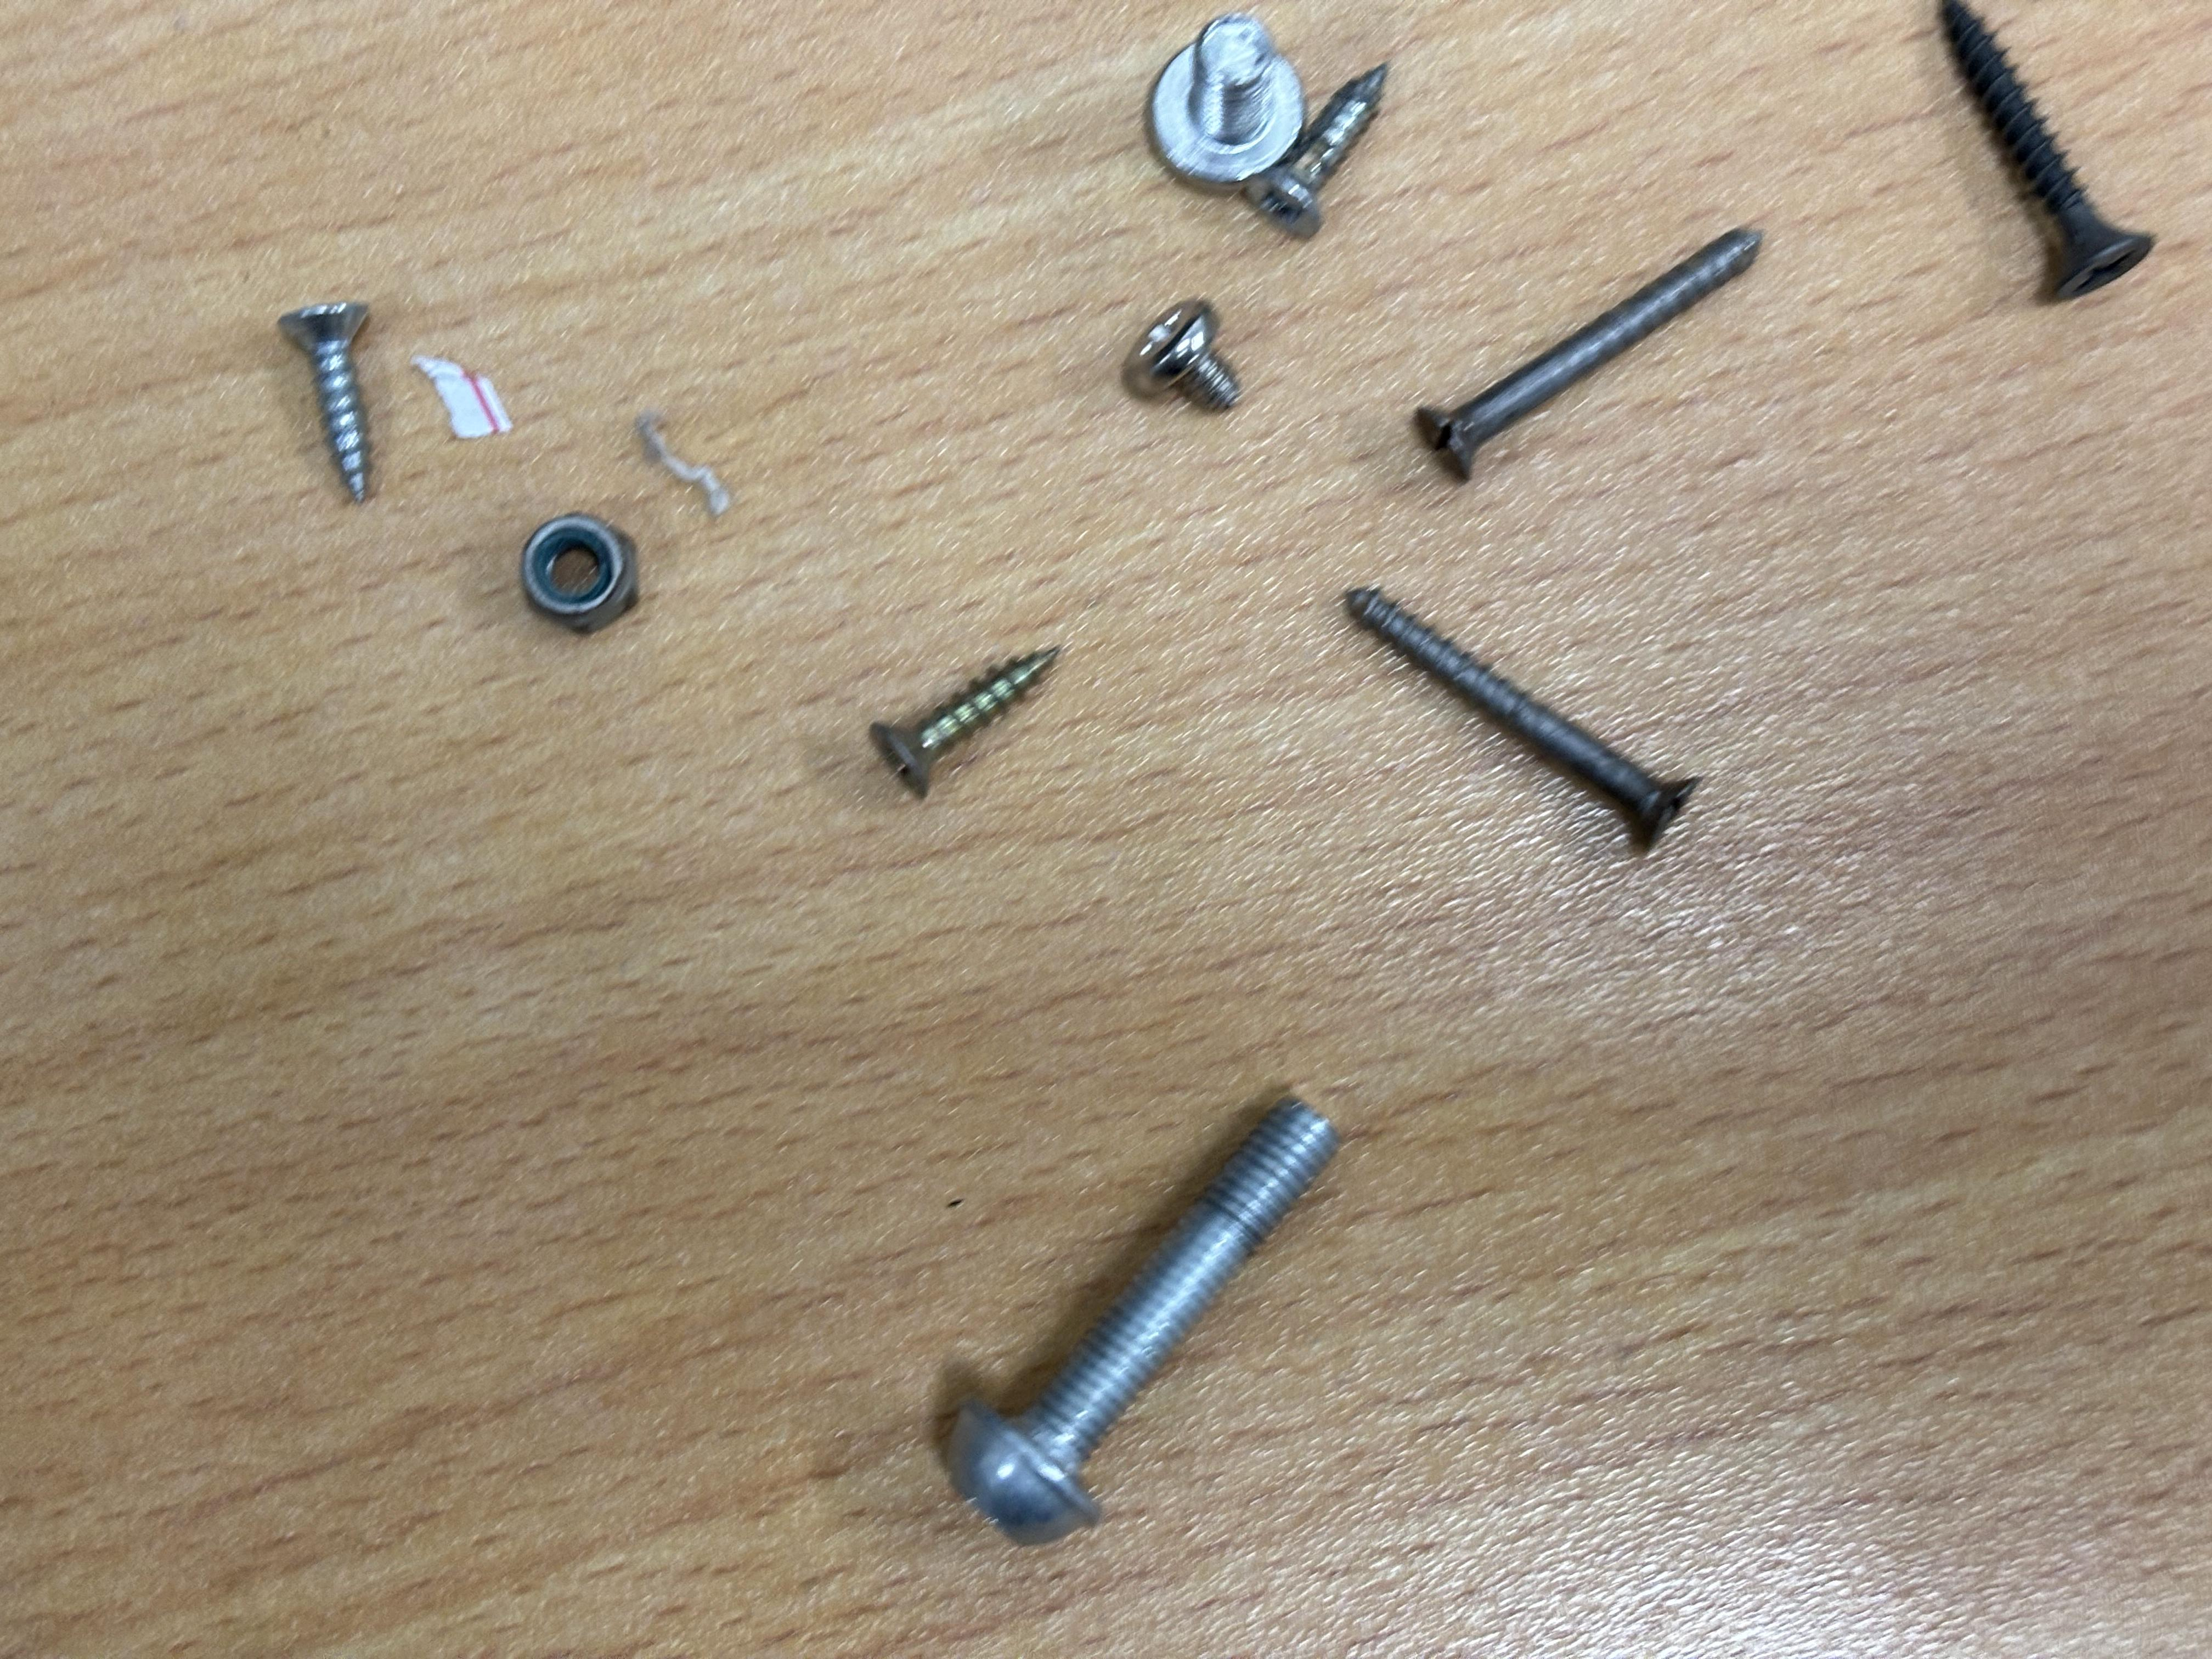Flange nut: (517, 511, 639, 638)
Round head screw: (948, 1091, 1338, 1546), (1339, 579, 1707, 863), (1411, 220, 1764, 481), (1939, 0, 2160, 301), (864, 640, 1066, 802), (1237, 56, 1395, 246), (1146, 12, 1306, 199), (275, 300, 374, 511), (1123, 296, 1247, 416)
